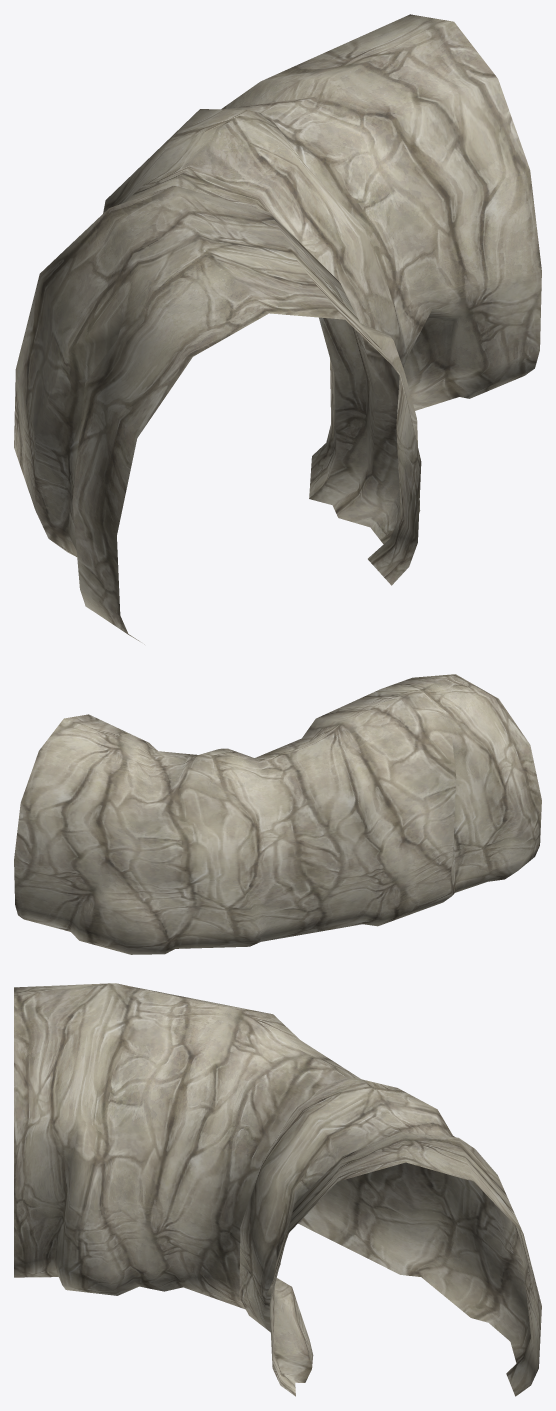
The model's file is cave ceiling corner.FBX.
3 renders of one model, top to bottom at view 1: azimuth 30°, elevation 25°; view 2: azimuth 150°, elevation 25°; view 3: azimuth 270°, elevation 25°, orthographic. The views are drawn at different scales.
Visible parts, largest first — view 1: cave ceiling corner; view 2: cave ceiling corner; view 3: cave ceiling corner.
Boxes of the visible parts, bbox=[...] form: cave ceiling corner: bbox=[14, 14, 541, 644]; cave ceiling corner: bbox=[14, 674, 541, 954]; cave ceiling corner: bbox=[14, 983, 541, 1396].
Size of the model in its own units: 33.97 by 18.56 by 33.7.
